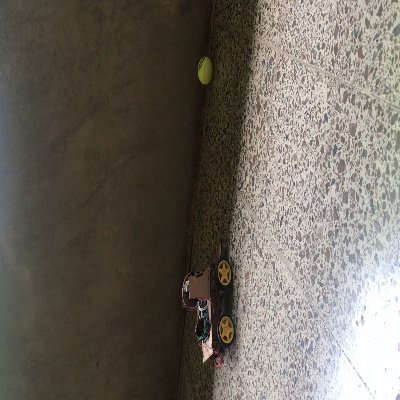Ball: (197, 56, 212, 84)
Robot: (182, 237, 236, 366)
